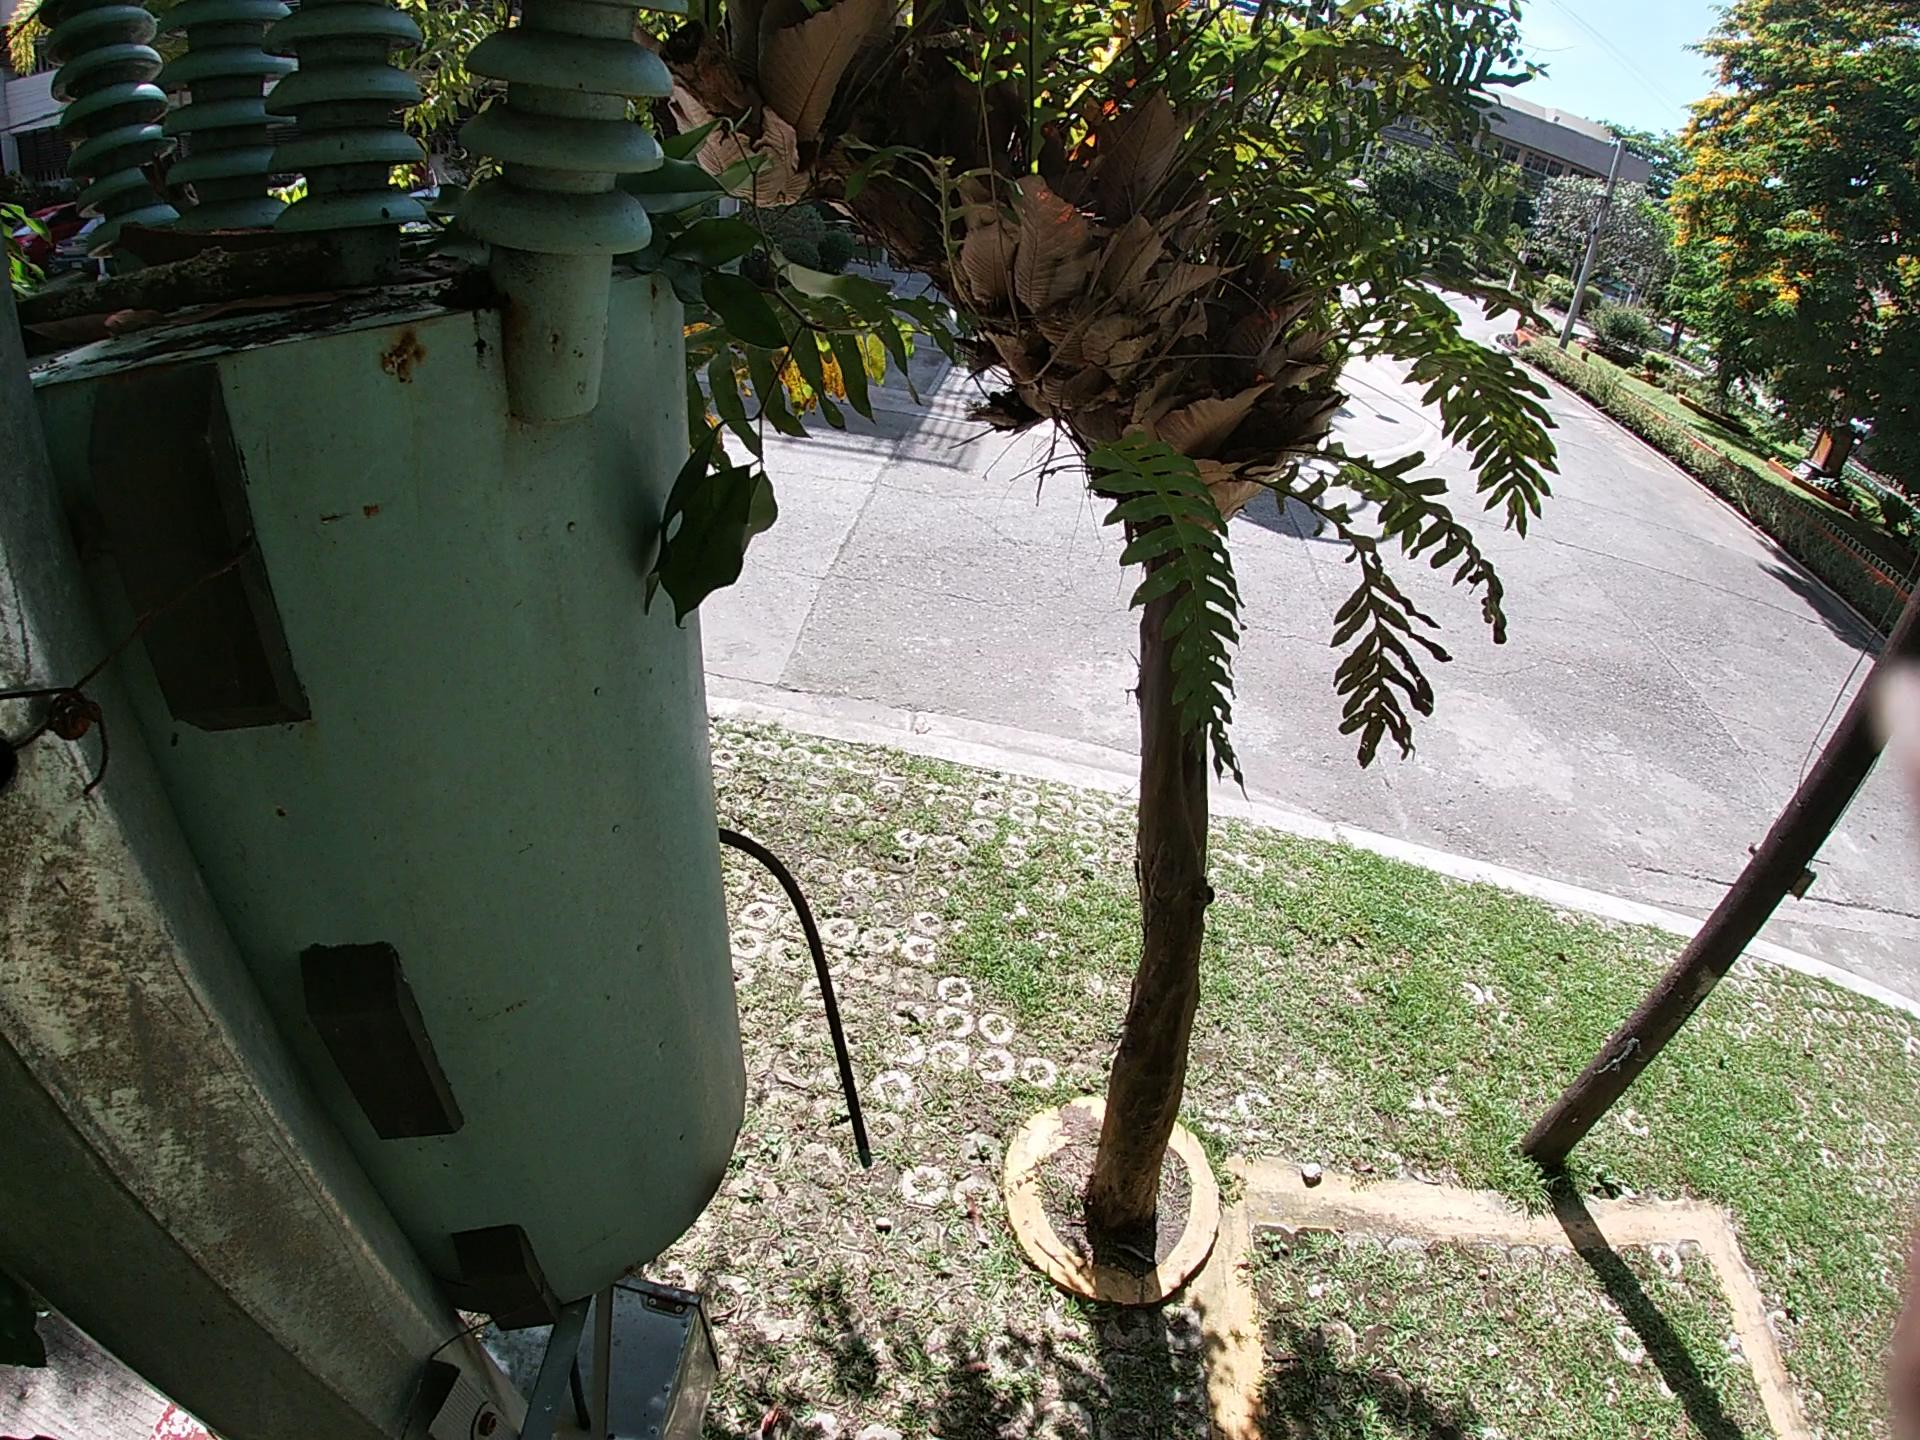branch with leaves: (621, 104, 842, 629)
leaf: (413, 177, 491, 287), (59, 299, 237, 331)
mahogany fruit: (107, 210, 301, 253)
tree branch: (8, 265, 234, 303)
